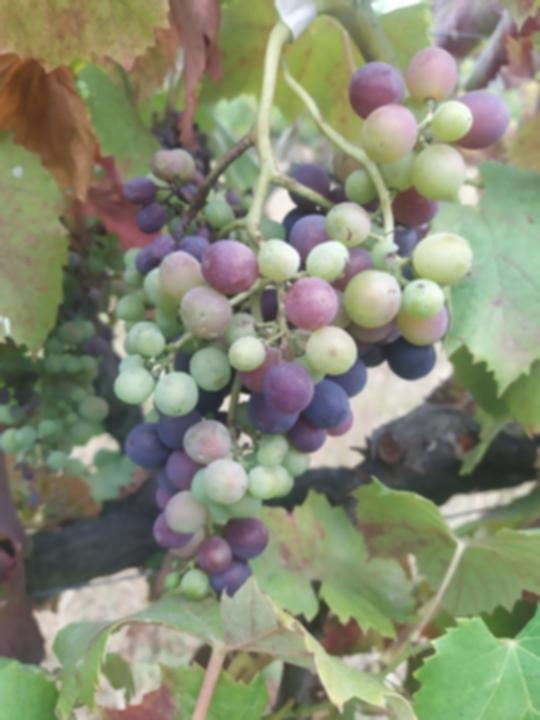grape: (114, 44, 516, 607)
